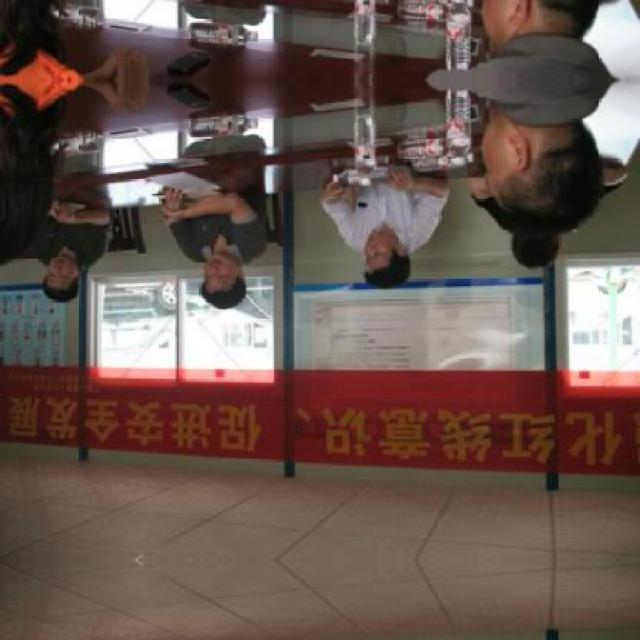sin casco: (484, 139, 630, 245), (365, 211, 451, 299), (41, 254, 116, 328), (196, 248, 261, 316)
